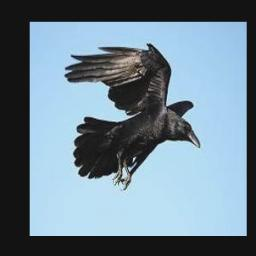Crow: (64, 42, 199, 191)
